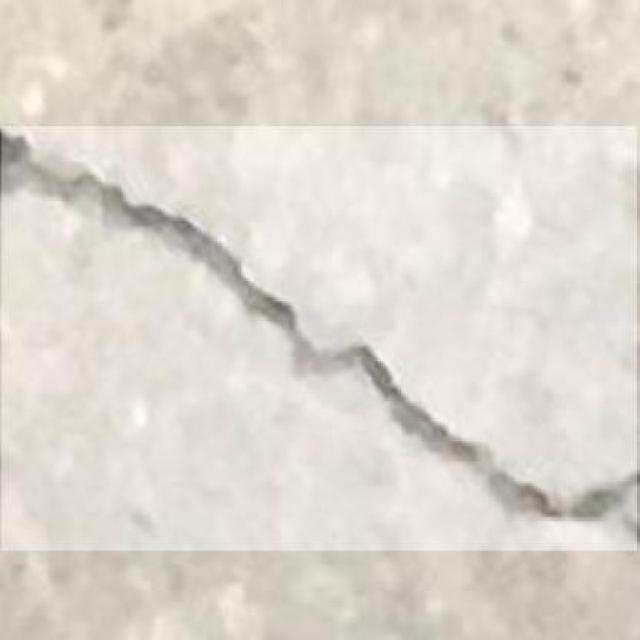Crack: (4, 144, 640, 532)
